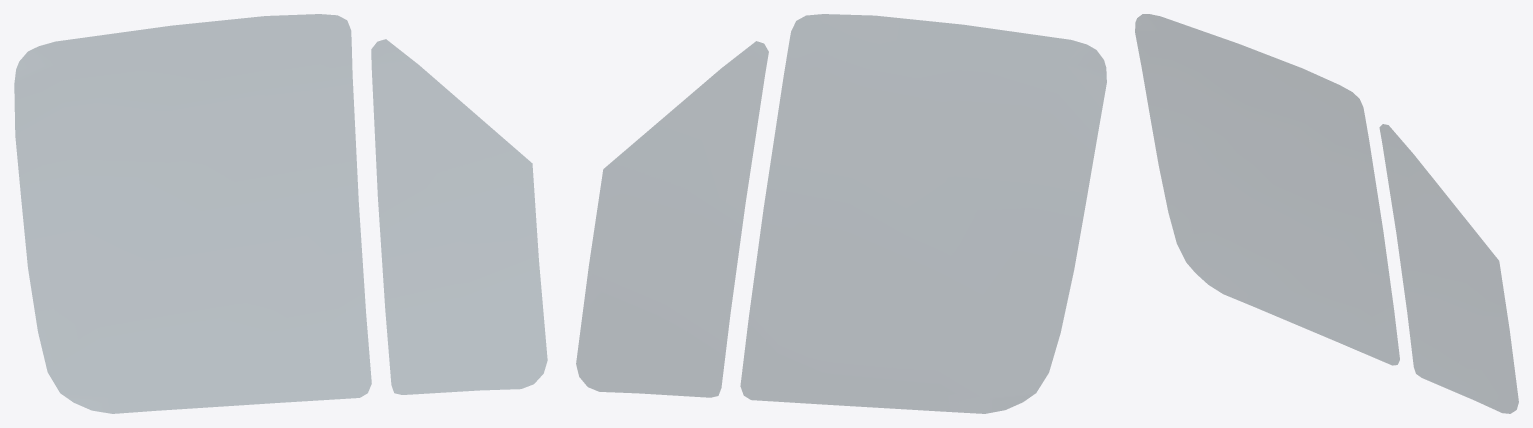
3 renders of one model, left to right at view 1: azimuth 30°, elevation 25°; view 2: azimuth 150°, elevation 25°; view 3: azimuth 330°, elevation 25°, orthographic. The views are drawn at different scales.
Parts seen in each view (by area): view 1: SM_MercedesSprinter_Door_FL_Glass_Int2; view 2: SM_MercedesSprinter_Door_FL_Glass_Int2; view 3: SM_MercedesSprinter_Door_FL_Glass_Int2.
Boxes of the visible parts, box(x1,y1,x2,y2) form: SM_MercedesSprinter_Door_FL_Glass_Int2: box(14, 14, 547, 413); SM_MercedesSprinter_Door_FL_Glass_Int2: box(576, 14, 1106, 413); SM_MercedesSprinter_Door_FL_Glass_Int2: box(1135, 14, 1518, 413).
Size of the model in its own units: 0.874 by 0.7288 by 0.052.
